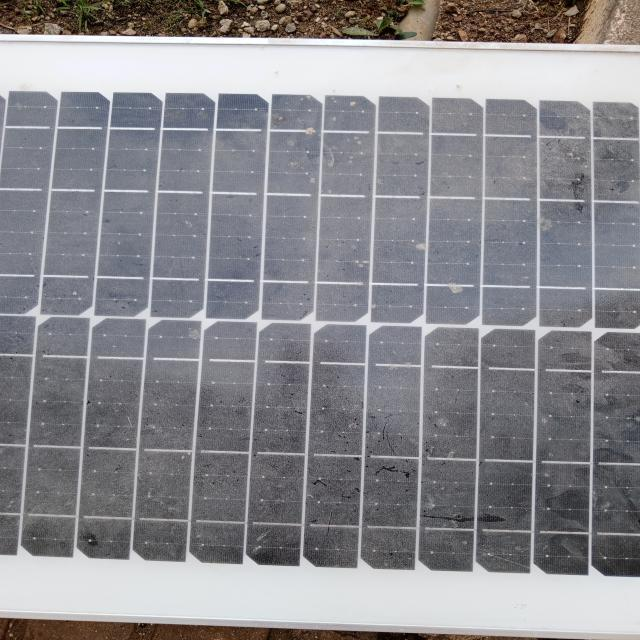Surface Contaminant: (10, 75, 639, 593)
